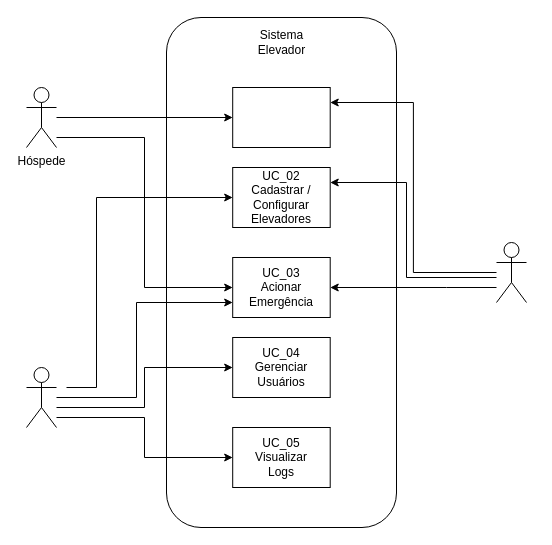
The diagram is 552 pixels wide and 545 high, and some of its shapes have lost their labels. The centre of each missing label's shape, as x and y in pixels:
Elevador: (511,272)
UC_01 Ir para andares: (281,117)
Usuário: (41,397)
